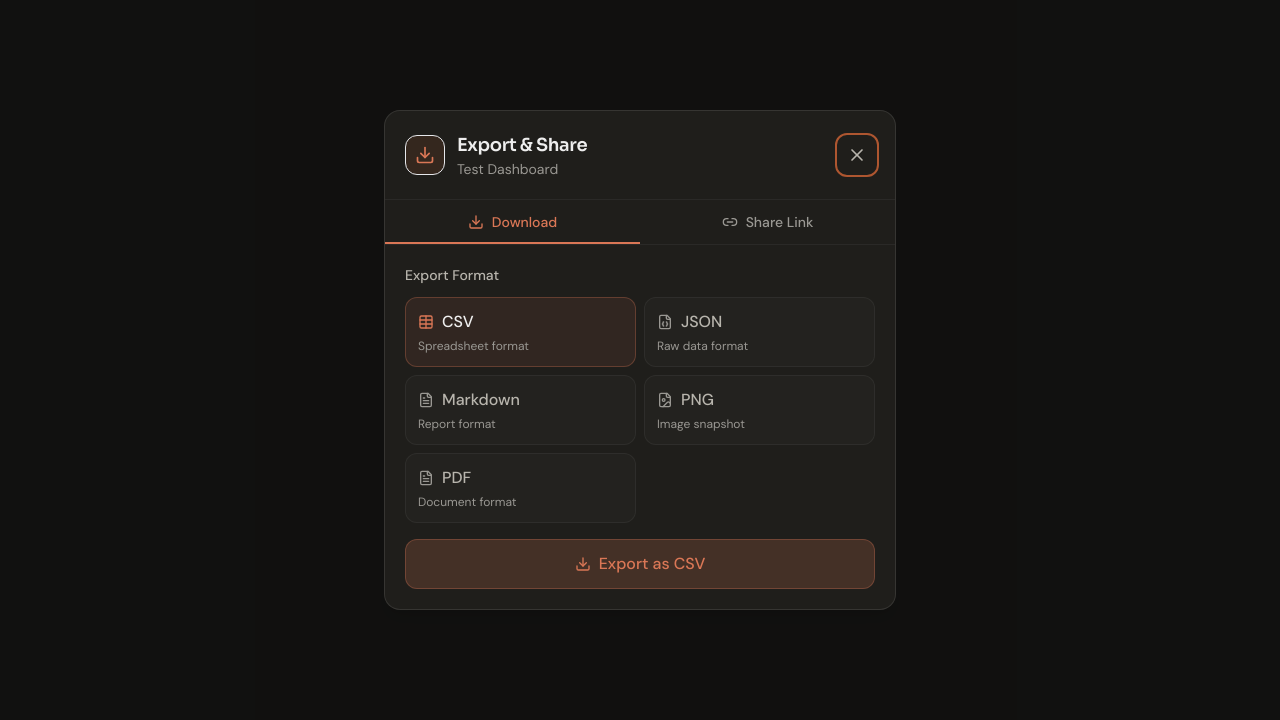
Test: ExportModal › tab switching › should switch to share tab on click
Click the tab "Share Link".
click(768, 222)  # box [640,200,895,244]
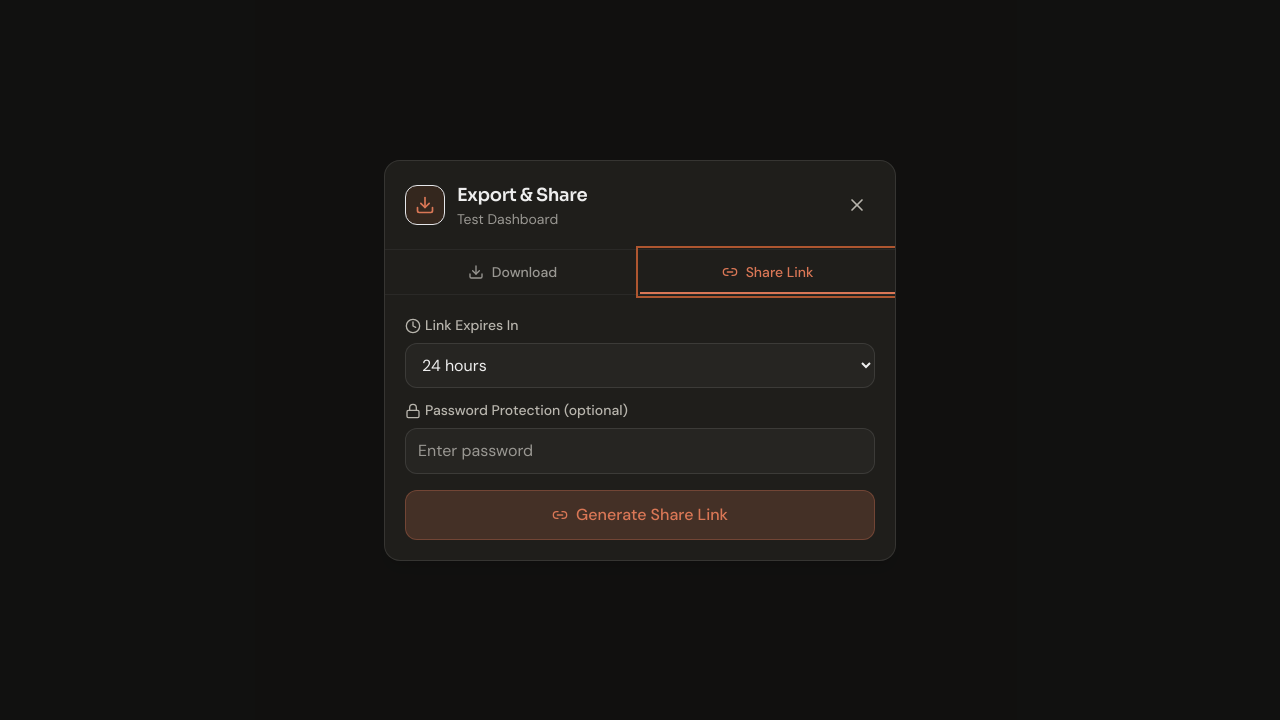
Now the text "Link Expires In" is shown, box [405,316,518,334]
